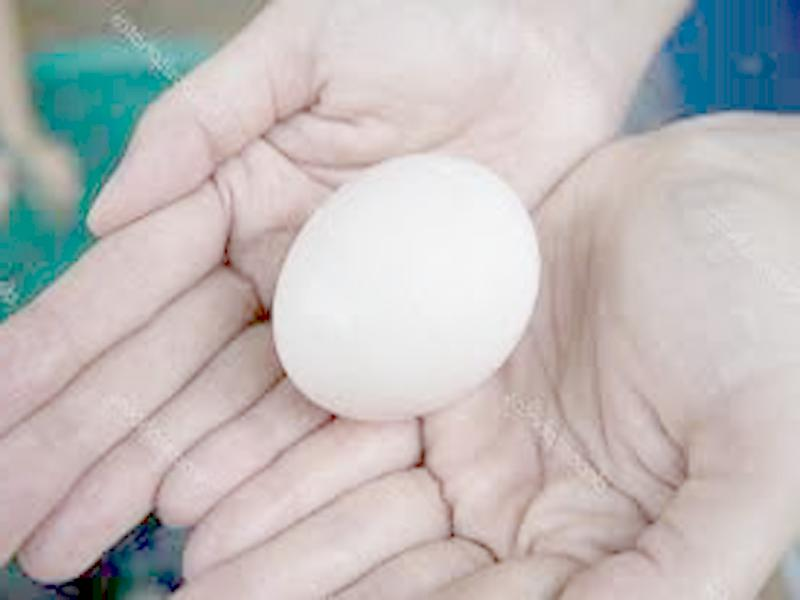Eggs: (272, 161, 537, 413)
